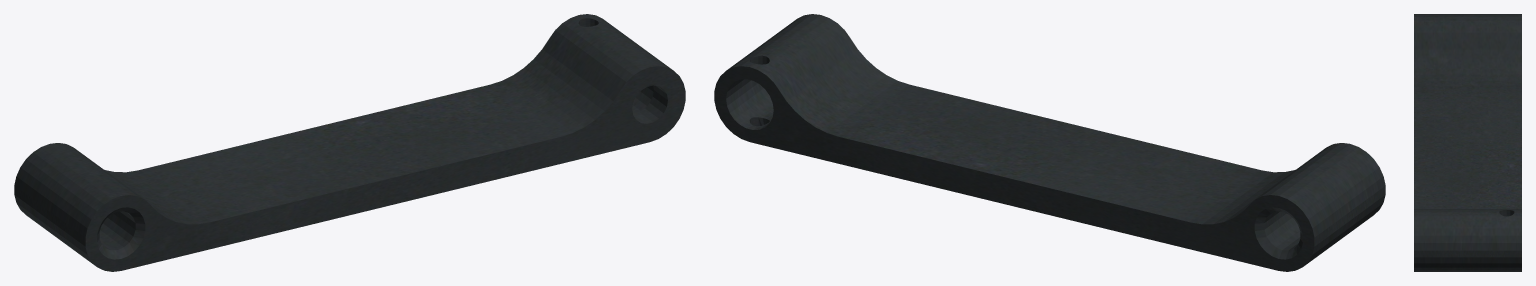
File: Trigger_Guard.dae
3 renders of one model, left to right at view 1: azimuth 30°, elevation 25°; view 2: azimuth 150°, elevation 25°; view 3: azimuth 270°, elevation 25°, orthographic. The views are drawn at different scales.
Visible parts, largest first — view 1: Trigger_Guard; view 2: Trigger_Guard; view 3: Trigger_Guard.
Boxes of the visible parts, x1,y1,x2,y2 form: Trigger_Guard: [14, 14, 685, 271]; Trigger_Guard: [714, 14, 1385, 271]; Trigger_Guard: [1414, 14, 1521, 271].
Size of the model in its own units: 0.0518 by 0.0106 by 0.00621.
Materials: 1 (1 with a texture image).
